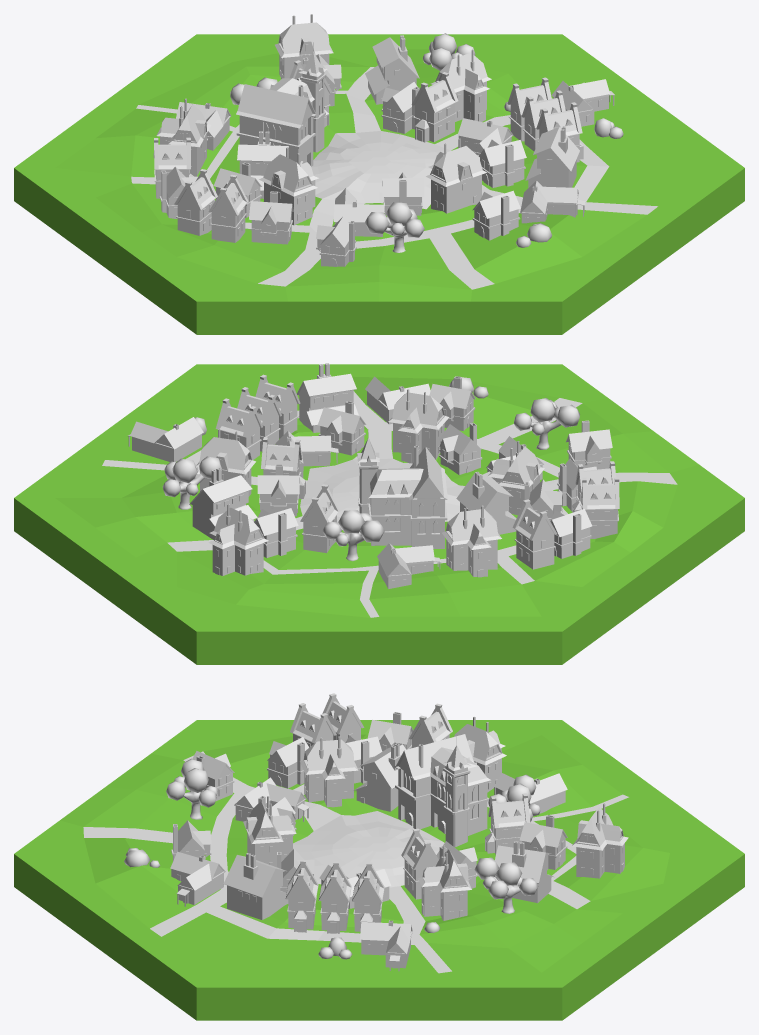
Rendered from TownJoined.fbx.
3 views of the same model, one above another, from view 1: azimuth 30°, elevation 25°; view 2: azimuth 150°, elevation 25°; view 3: azimuth 270°, elevation 25° (orthographic).
Parts seen in each view (by area): view 1: Cube.030; view 2: Cube.030; view 3: Cube.030.
Part boxes in pixels (<box>): Cube.030: <box>14,14,744,334</box>; Cube.030: <box>14,363,744,664</box>; Cube.030: <box>14,693,744,1020</box>.
Size of the model in its own units: 173 by 41.47 by 200.
